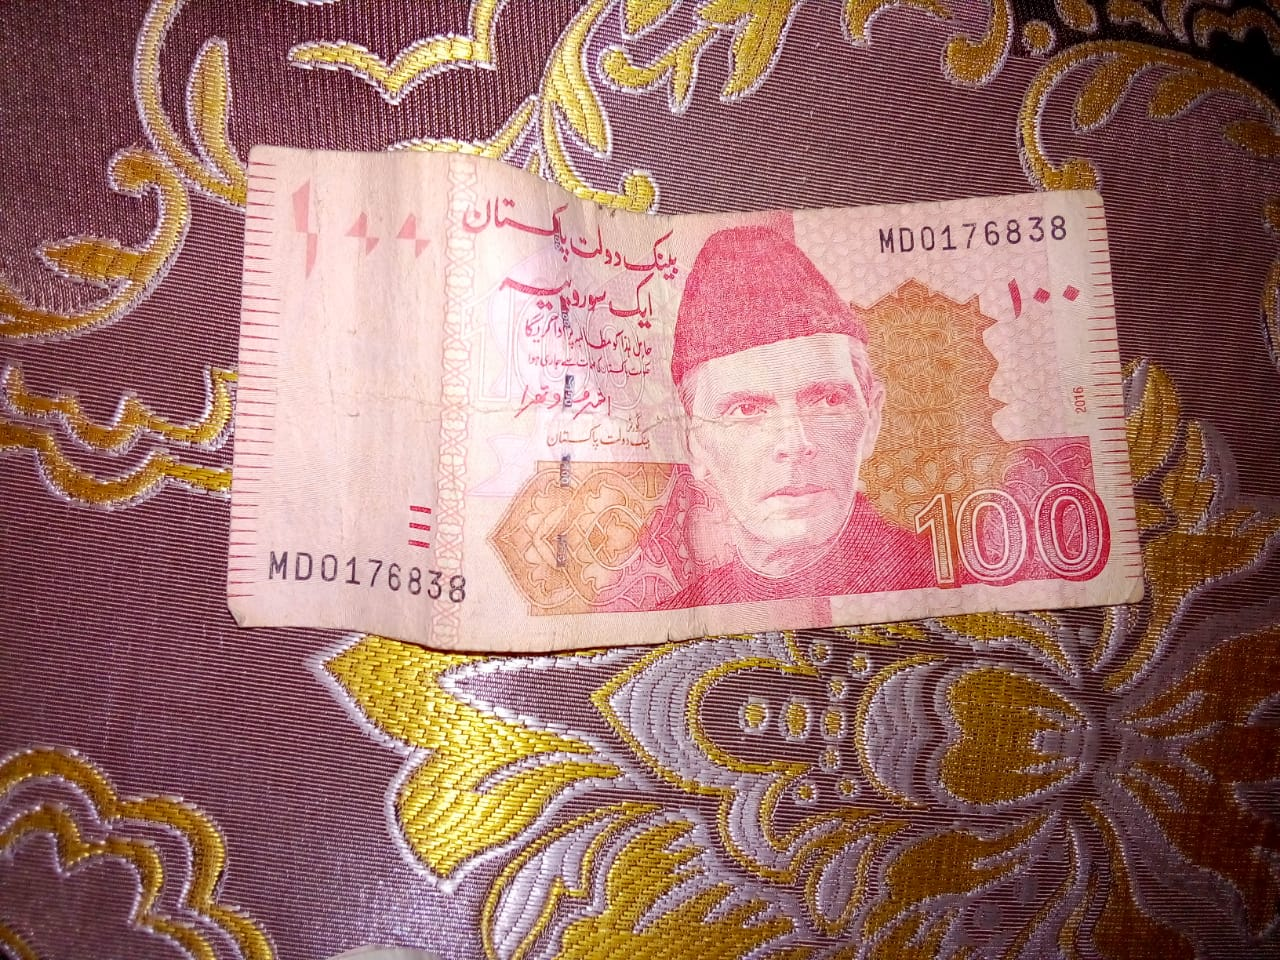100 rupee: (221, 125, 1165, 697)
